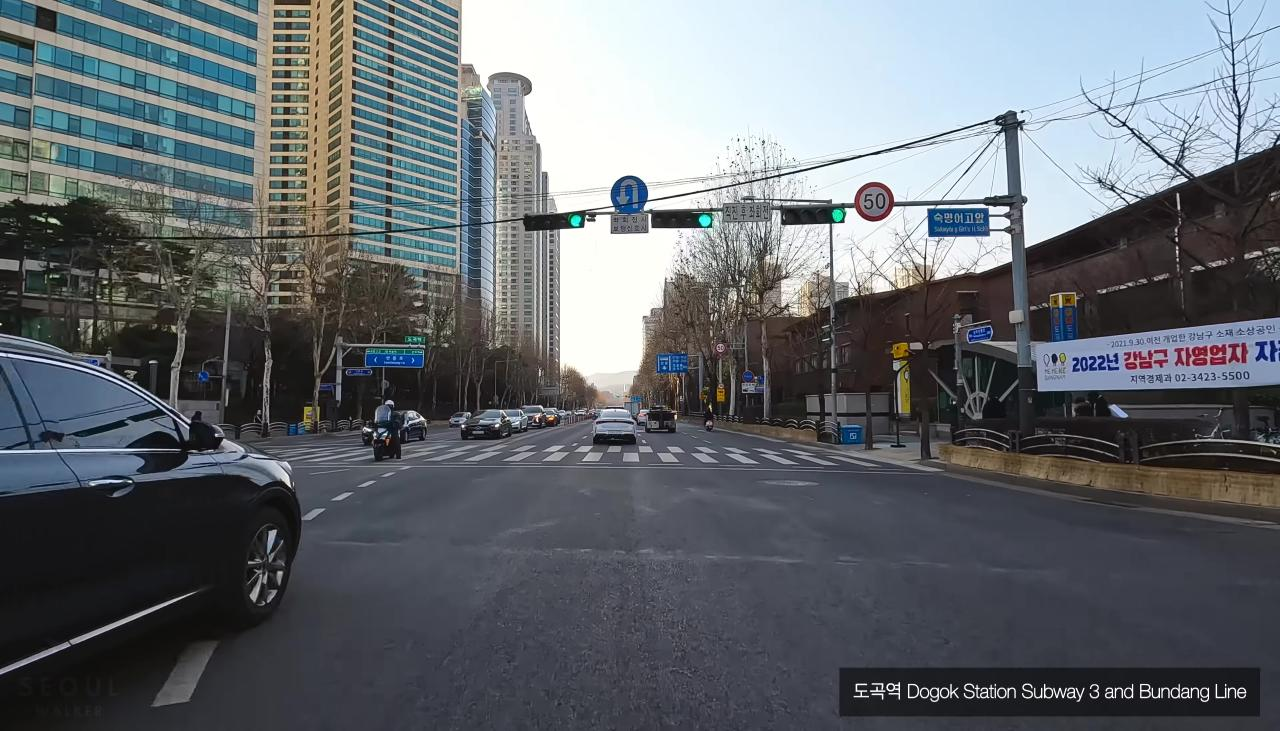Green Light: (568, 210, 585, 229), (697, 210, 712, 228), (831, 206, 845, 225)
